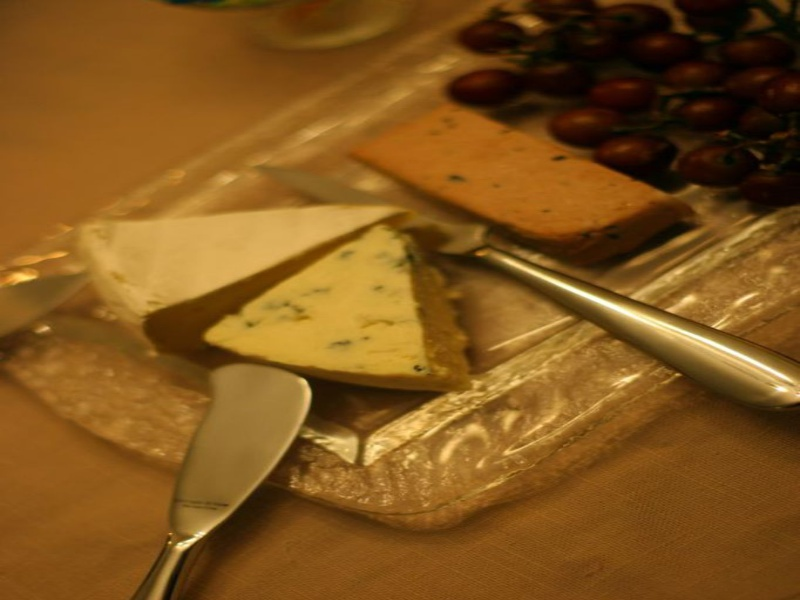knife: (249, 156, 800, 417)
